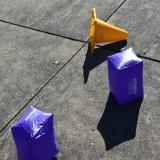cone: (90, 8, 128, 54)
cube: (11, 104, 59, 160), (107, 47, 144, 107)
